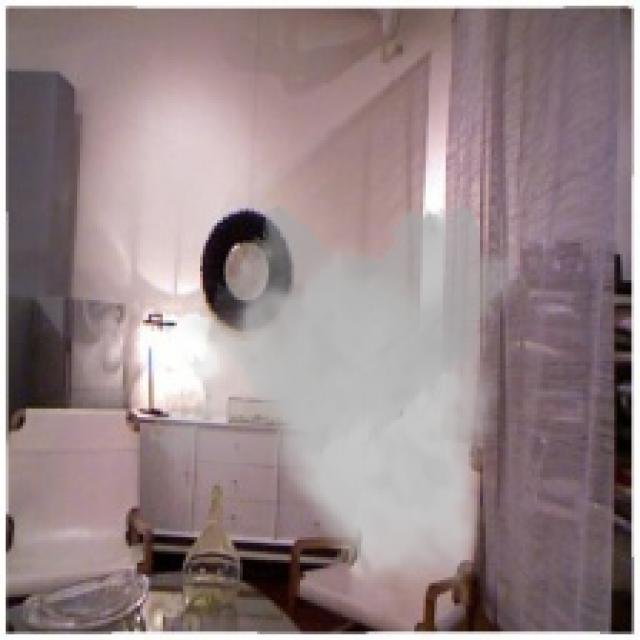smoke: (146, 194, 528, 606)
